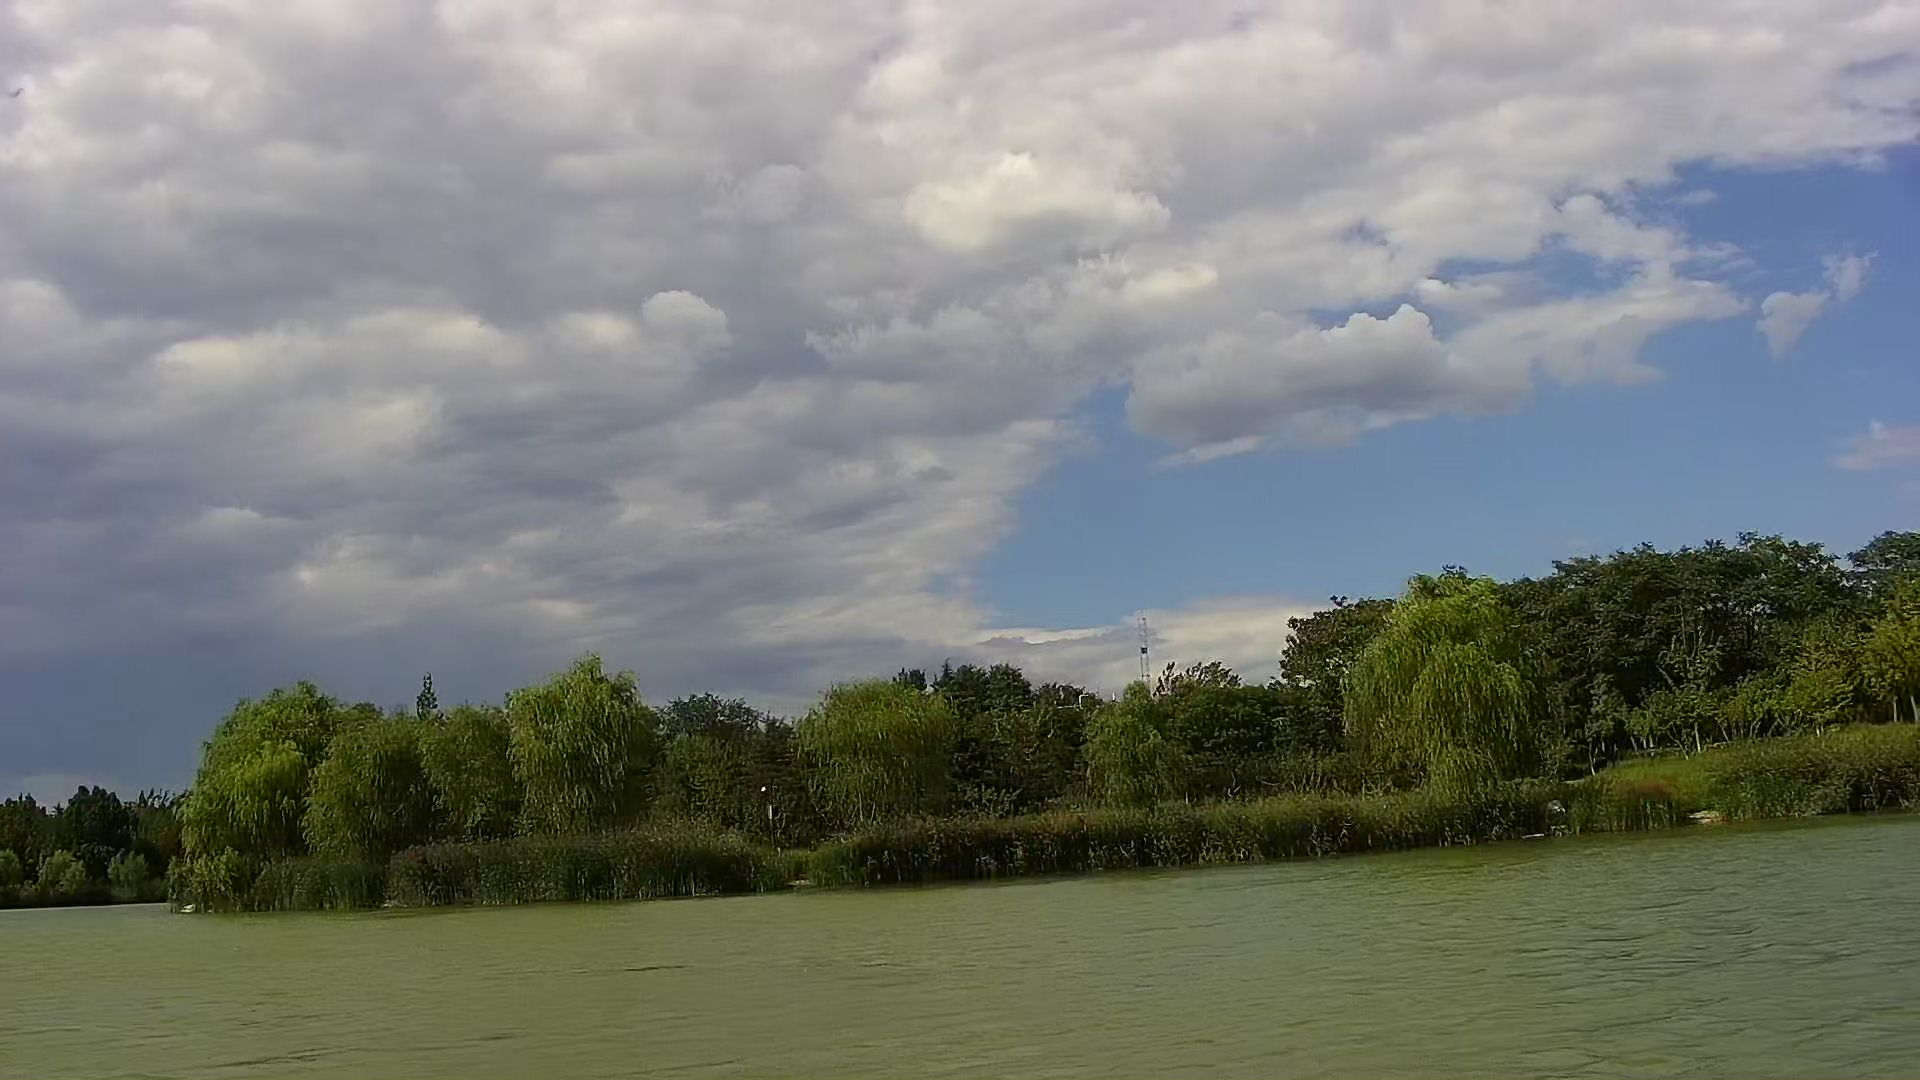rock: (1687, 806, 1724, 825)
